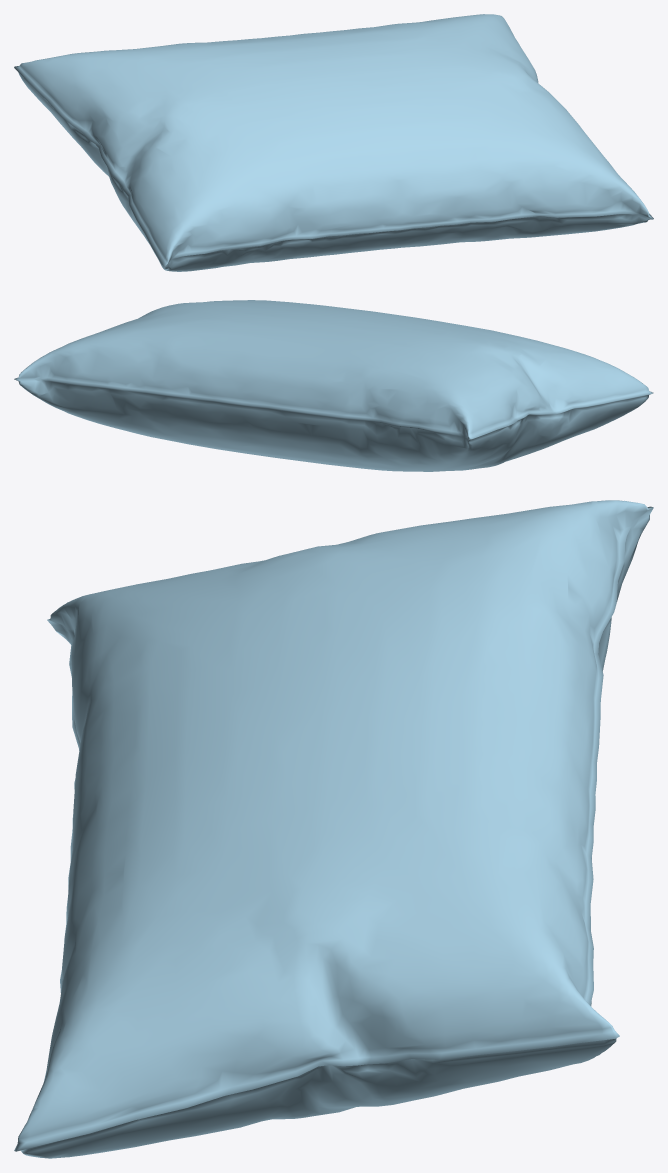
File: pillow.fbx
3 views of the same model, one above another, from view 1: azimuth 30°, elevation 25°; view 2: azimuth 150°, elevation 25°; view 3: azimuth 270°, elevation 25° (orthographic). The views are drawn at different scales.
Visible parts, largest first — view 1: pillow1; view 2: pillow1; view 3: pillow1.
Part boxes in pixels (<box>): pillow1: <box>14,14,653,271</box>; pillow1: <box>14,300,653,471</box>; pillow1: <box>14,500,653,1158</box>.
Size of the model in its own units: 874 by 296 by 542.
